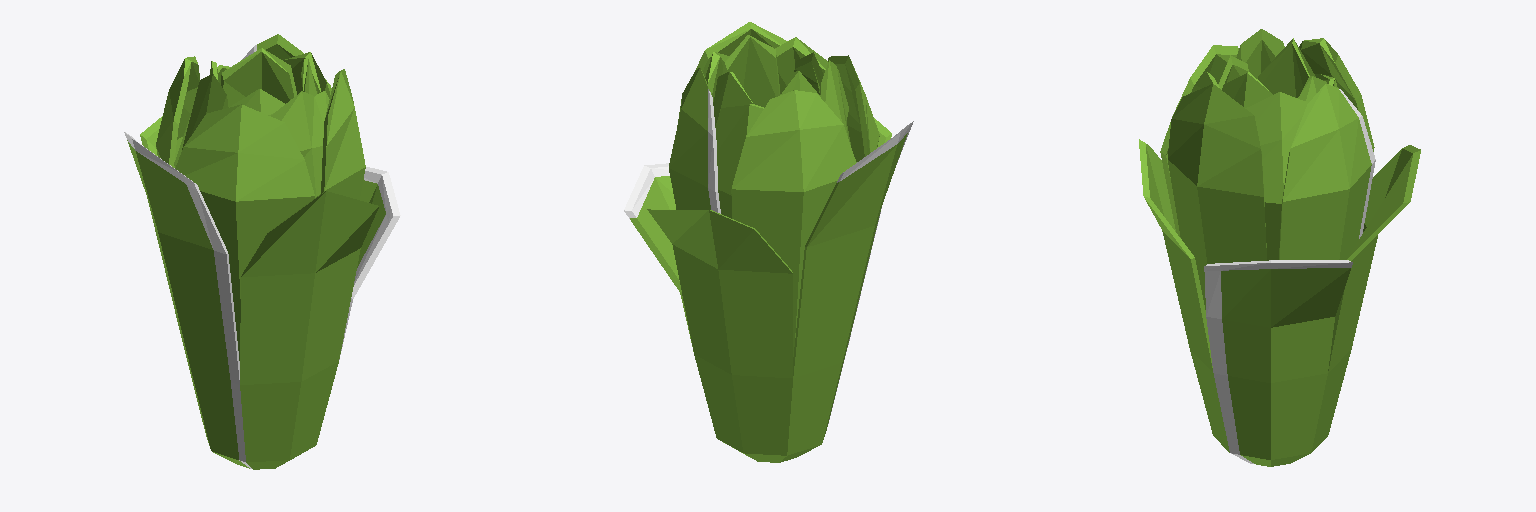
File: Head_of_Lettuce_01.obj
3 views of the same model, side by side, from view 1: azimuth 30°, elevation 25°; view 2: azimuth 150°, elevation 25°; view 3: azimuth 270°, elevation 25° (orthographic).
Parts seen in each view (by area): view 1: Head_of_Lettuce_Circle.019; view 2: Head_of_Lettuce_Circle.019; view 3: Head_of_Lettuce_Circle.019.
Boxes of the visible parts, <box> form: Head_of_Lettuce_Circle.019: <box>124,34,400,469</box>; Head_of_Lettuce_Circle.019: <box>624,22,913,462</box>; Head_of_Lettuce_Circle.019: <box>1139,29,1420,466</box>.
Bounding box in the file's own units: 7.18 × 10.8 × 6.84.